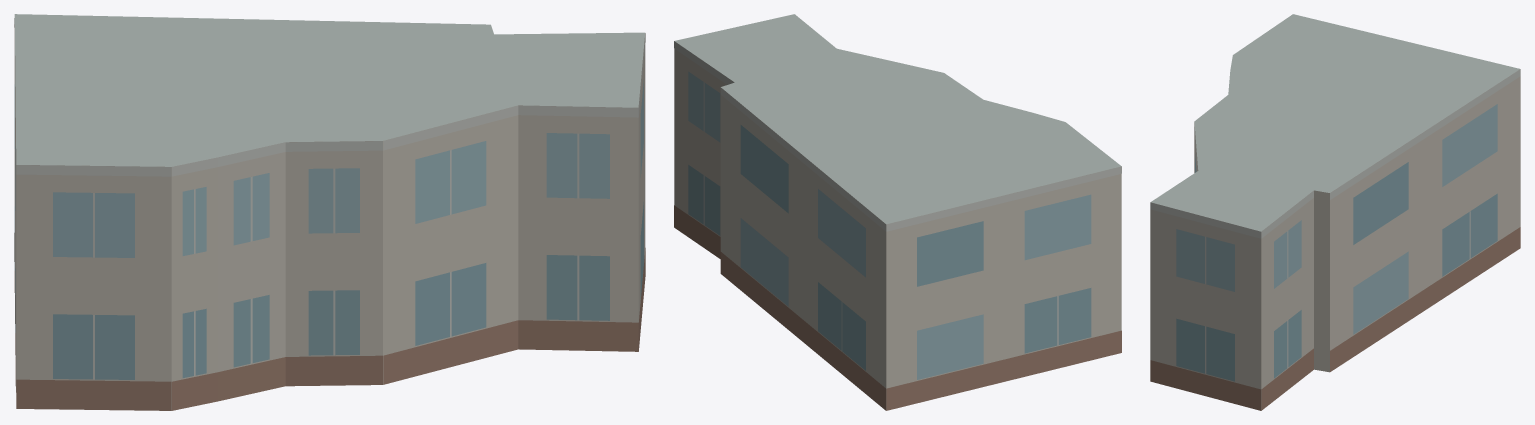
Rendered from survey-upis-32646596.glb.
The picture shows the model from 3 angles, left to right: view 1: azimuth 30°, elevation 25°; view 2: azimuth 150°, elevation 25°; view 3: azimuth 270°, elevation 25°; orthographic projection. The views are drawn at different scales.
Visible parts, largest first — view 1: survey-upis-32646596.tmp; view 2: survey-upis-32646596.tmp; view 3: survey-upis-32646596.tmp.
Boxes of the visible parts, x1,y1,x2,y2 form: survey-upis-32646596.tmp: (14,14,645,410); survey-upis-32646596.tmp: (674,14,1121,410); survey-upis-32646596.tmp: (1150,14,1520,410).
Bounding box in the file's own units: 15.9 × 6.1 × 11.43.
